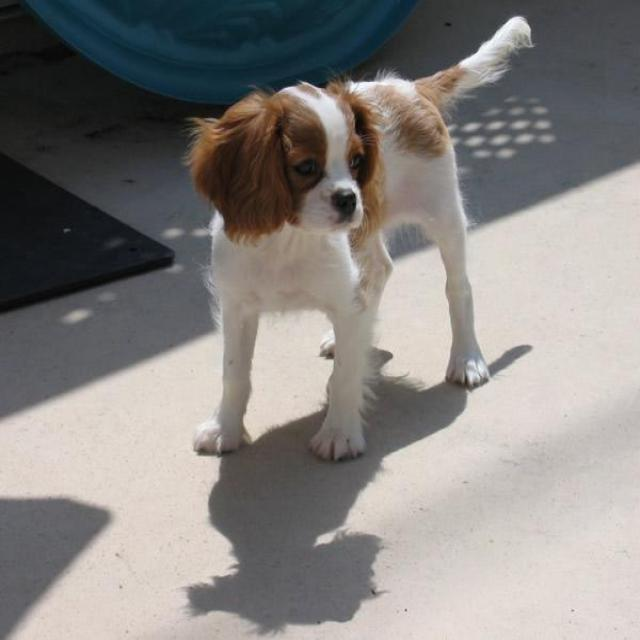blenheim_spaniel: (175, 11, 535, 463)
